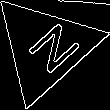N_SW: (13, 16, 78, 80)
